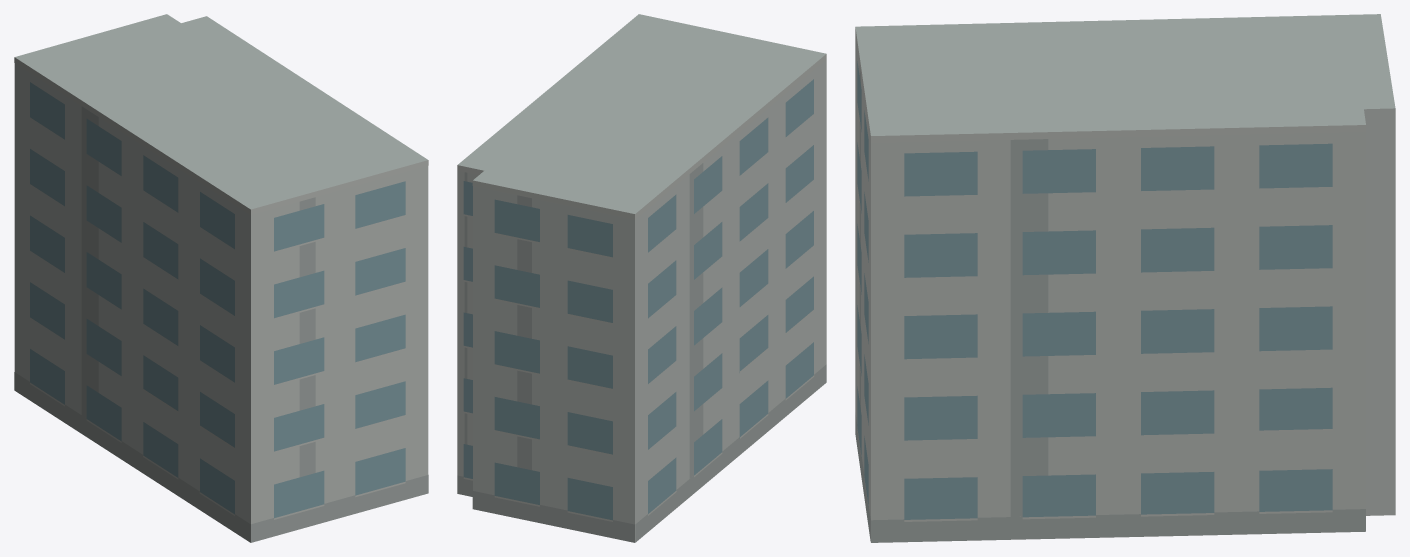
File: survey-upis-32733629.glb
3 views of the same model, side by side, from view 1: azimuth 30°, elevation 25°; view 2: azimuth 150°, elevation 25°; view 3: azimuth 270°, elevation 25° (orthographic). The views are drawn at different scales.
Visible parts, largest first — view 1: survey-upis-32733629.tmp; view 2: survey-upis-32733629.tmp; view 3: survey-upis-32733629.tmp.
Boxes of the visible parts, <box> form: survey-upis-32733629.tmp: <box>14,14,428,542</box>; survey-upis-32733629.tmp: <box>457,14,826,542</box>; survey-upis-32733629.tmp: <box>855,14,1395,542</box>.
Size of the model in its own units: 9.22 by 14.3 by 17.22.
